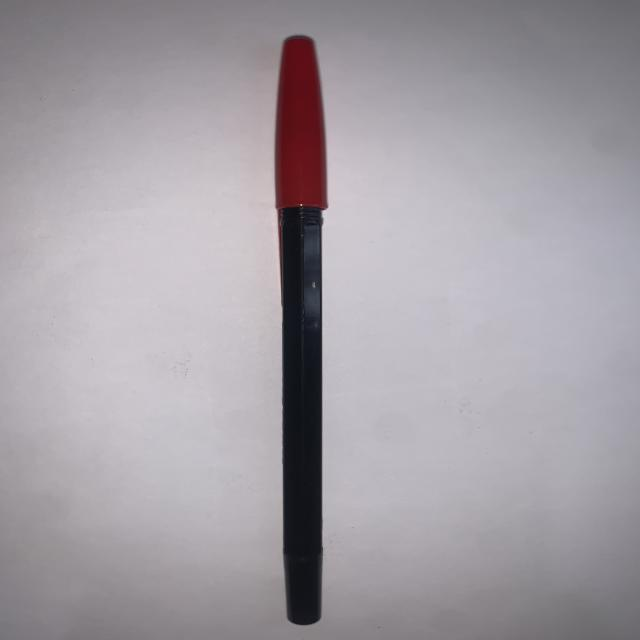Pulpen: (256, 32, 345, 640)
